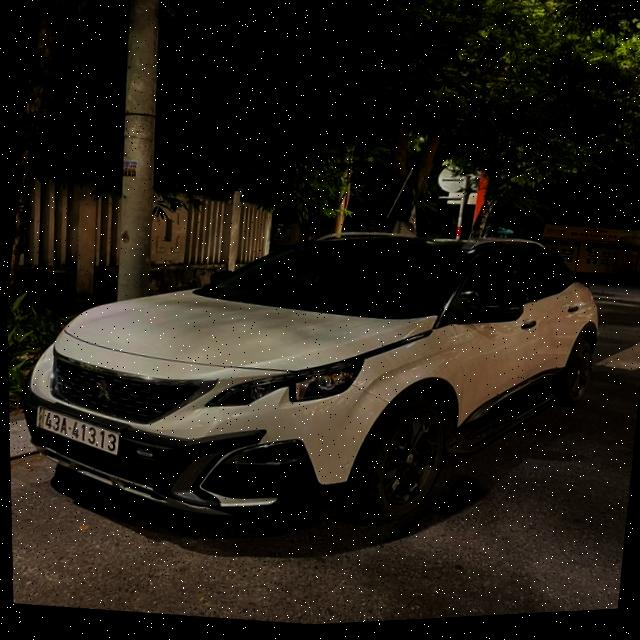car: (4, 168, 631, 582)
plate: (31, 399, 126, 461)
